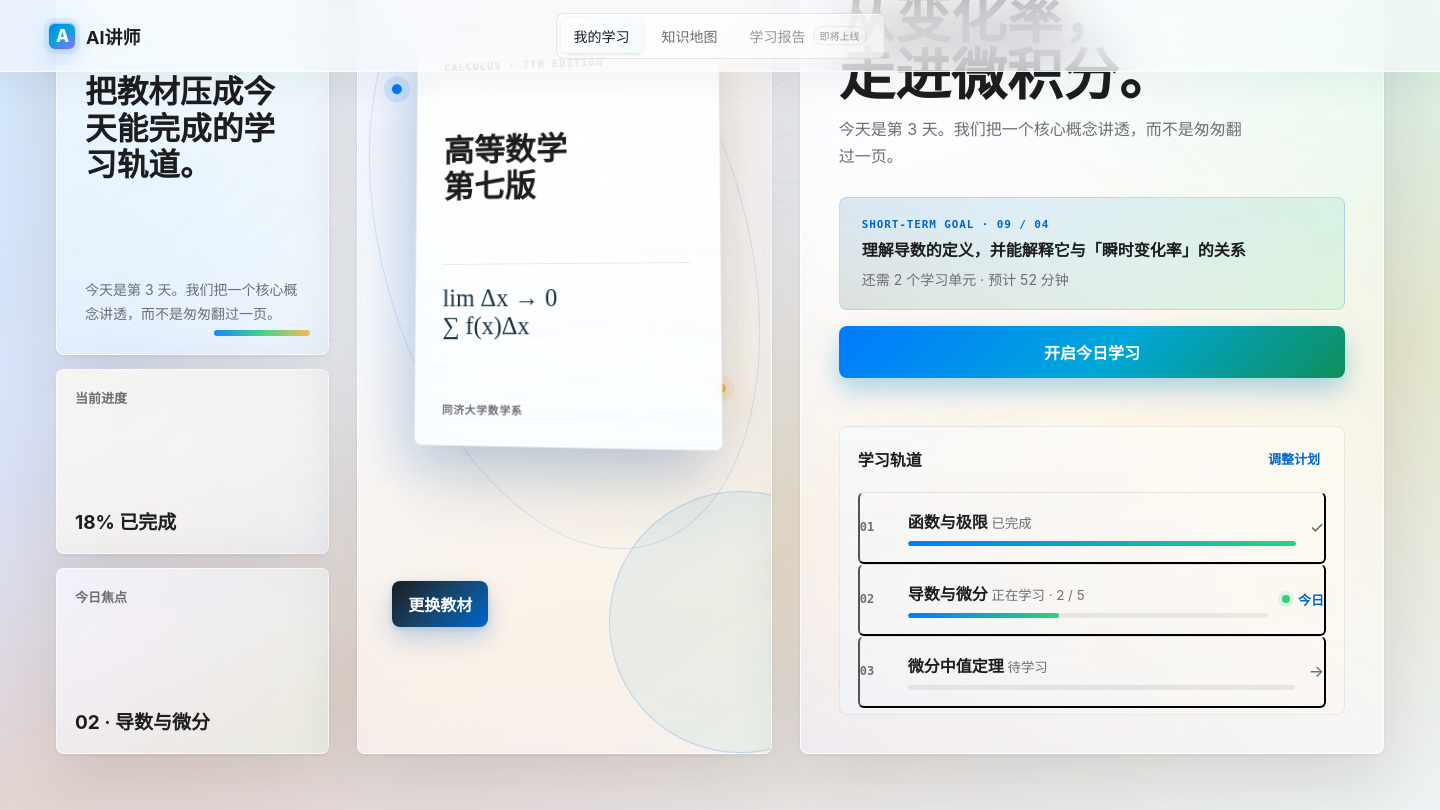
Test case: 删除教材 › 删掉的是当前教材时，切到列表里的下一本
(page scrolled)
Expected: the element with test id "book-cover" shows "高等数学", [443, 129, 566, 170]
Click the button "更换教材" at (440, 604), box [392, 581, 488, 627]
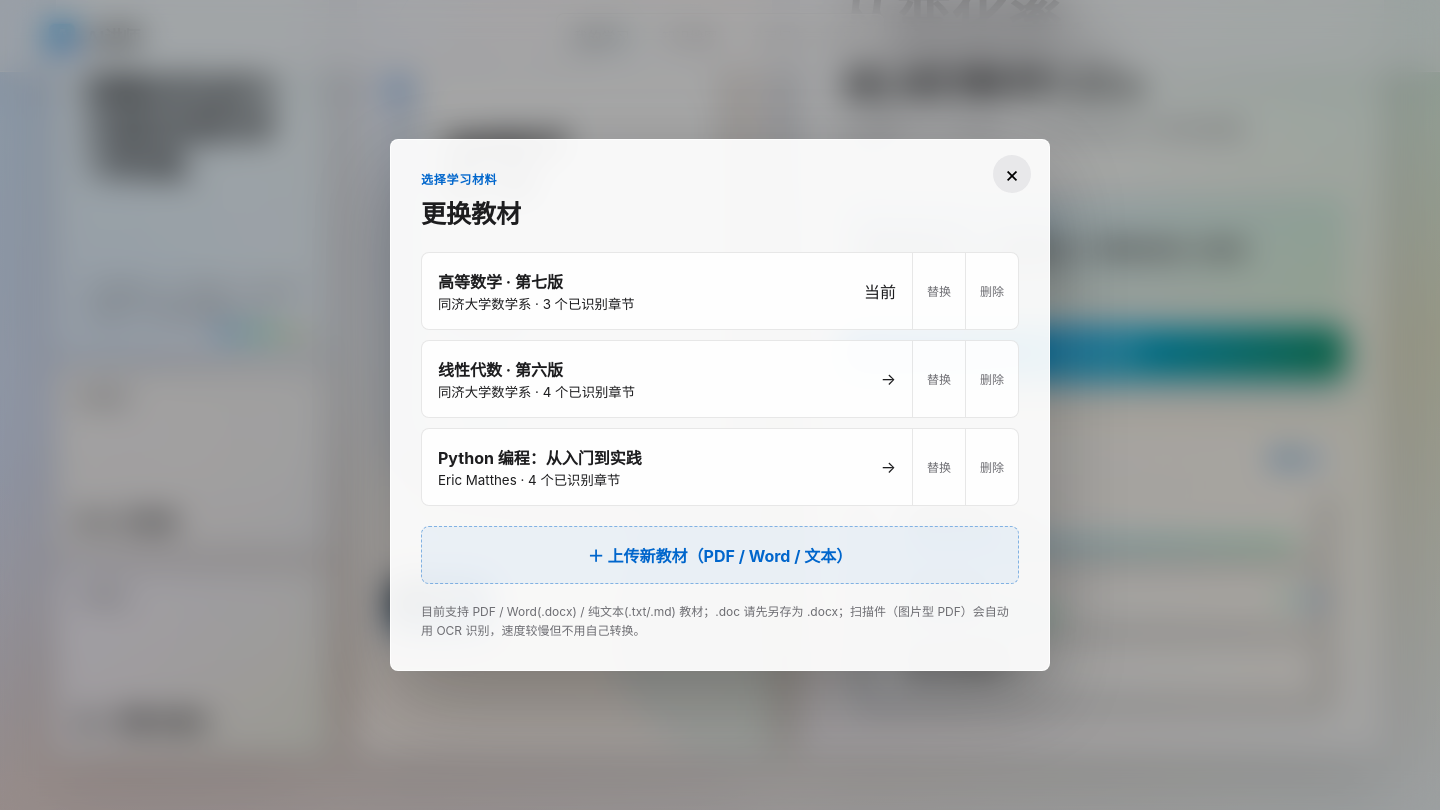
Click the button with aria-label "删除《高等数学》" at (992, 291), box [965, 253, 1018, 329]
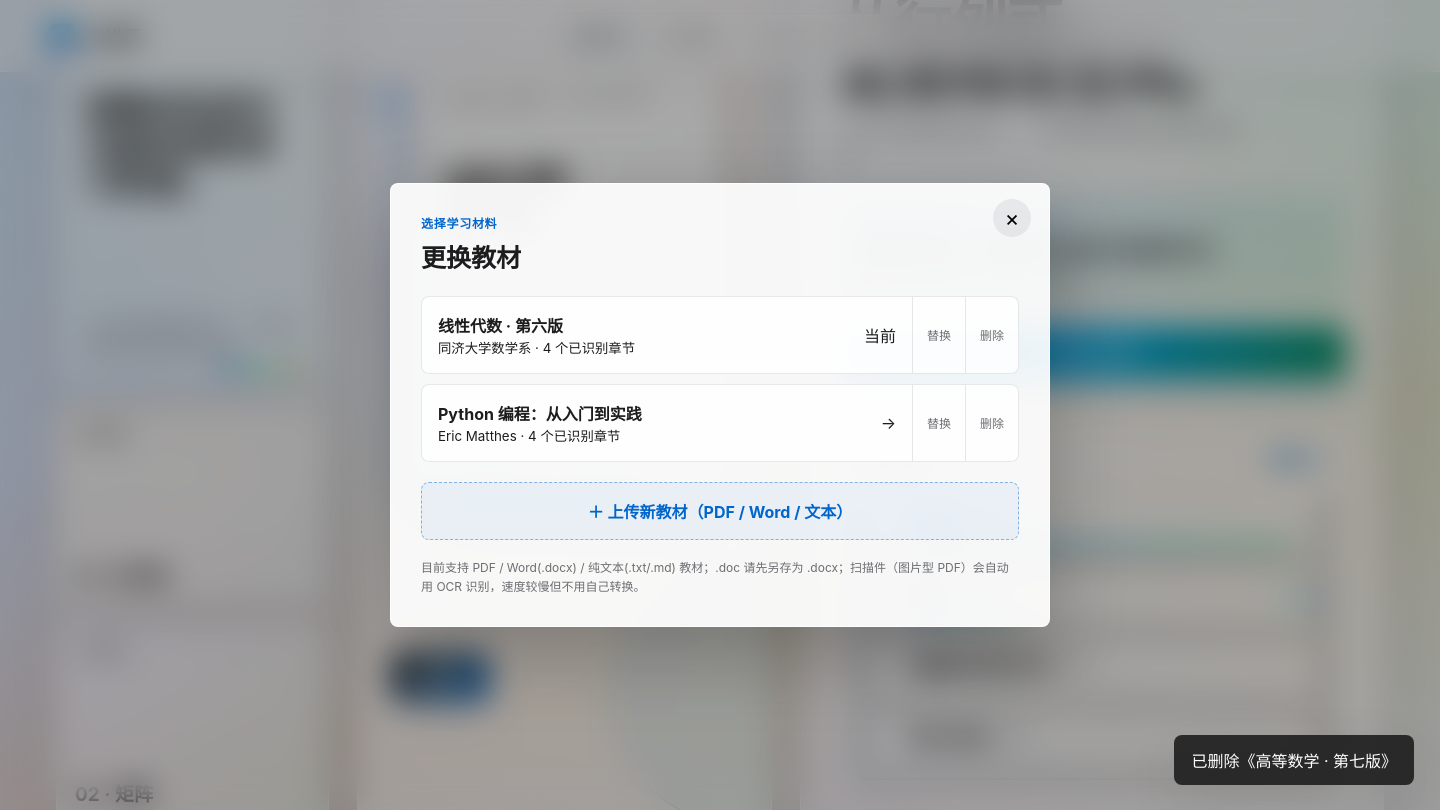
Expected: the element with test id "book-cover" shows "线性代数", [443, 163, 566, 204]
